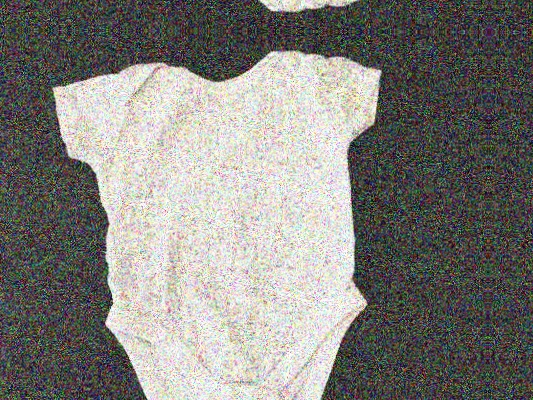Body: (50, 41, 396, 400), (52, 0, 398, 21)
